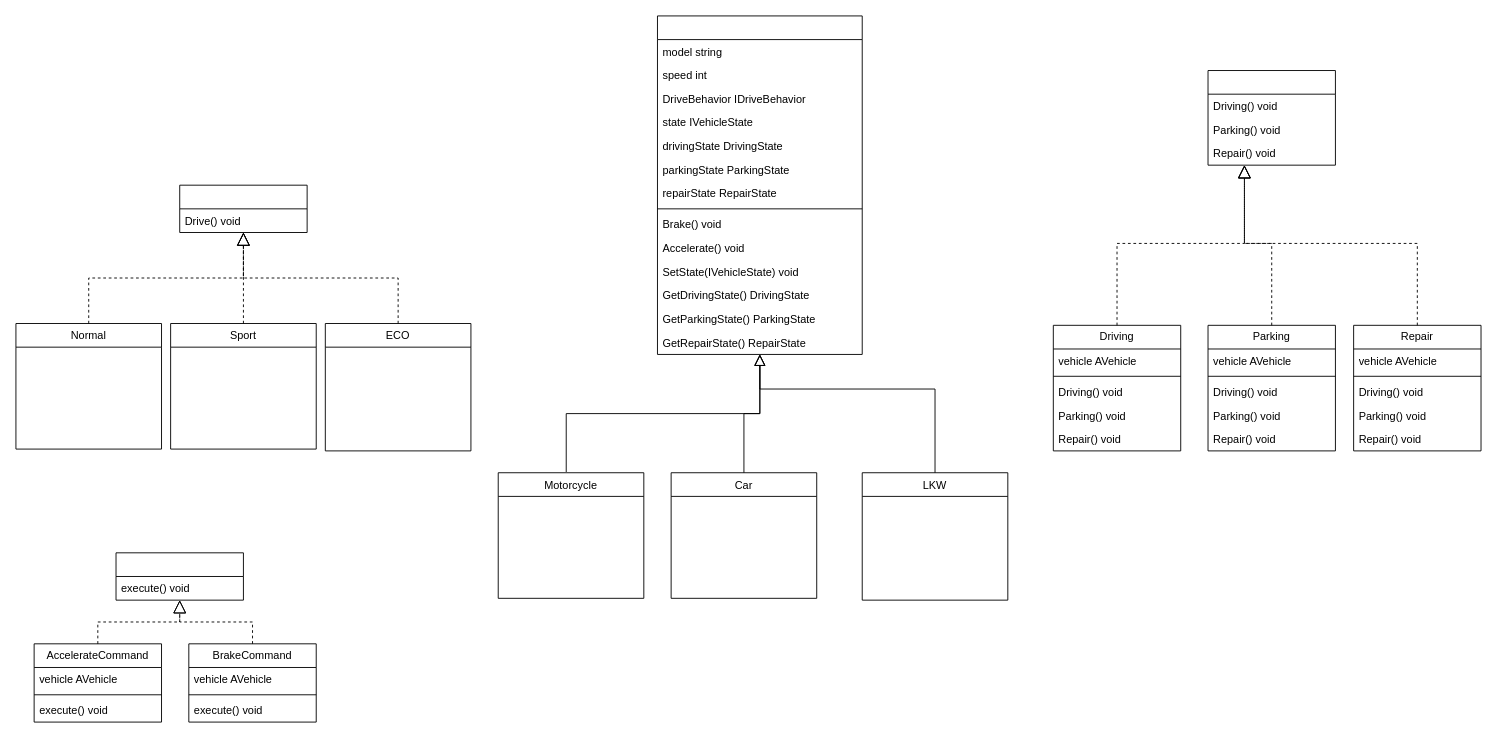
This 1497x741 diagram has some shape labels left out. The shapes that lost their labels are listed below. From the top down, each one's box as (x1, y1, x2, y2) in pixels, then its label:
(1207, 70, 1335, 165): IVehicleState
(657, 15, 862, 354): AVehicle
(179, 184, 307, 233): IDriveBehavior
(115, 552, 243, 600): ICommand
